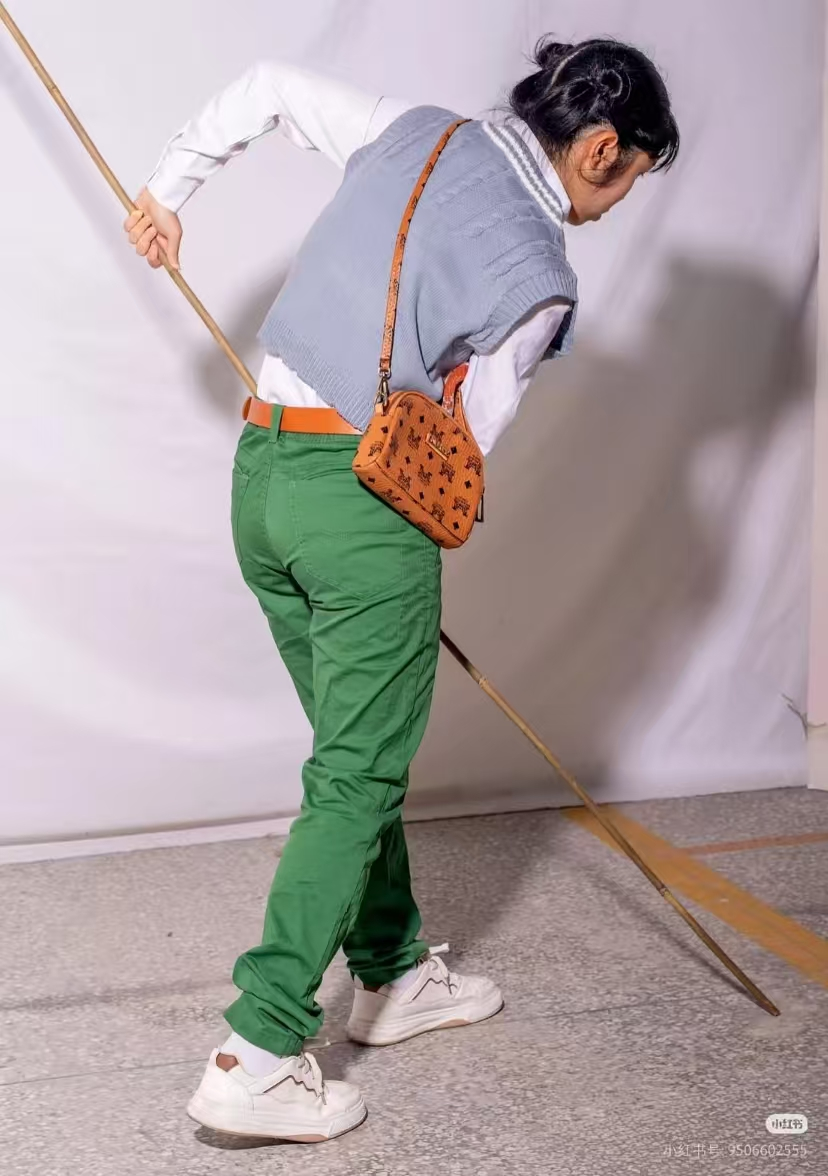bending: (110, 27, 679, 1160)
